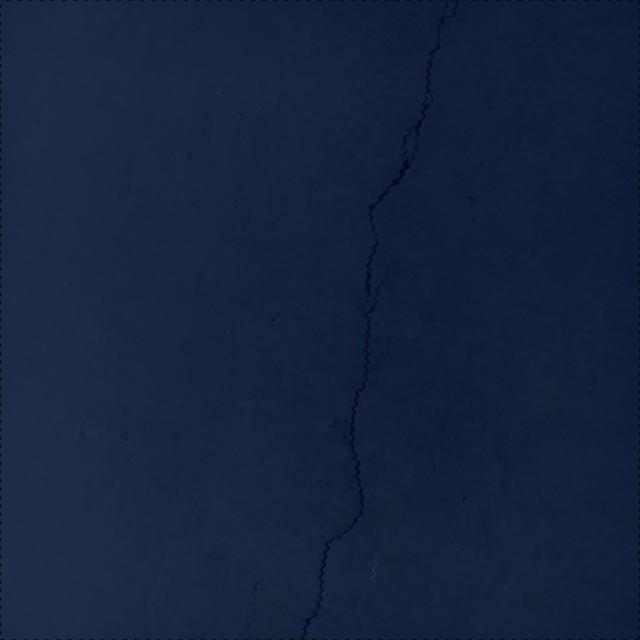crack: (301, 0, 461, 640), (245, 554, 274, 640)
